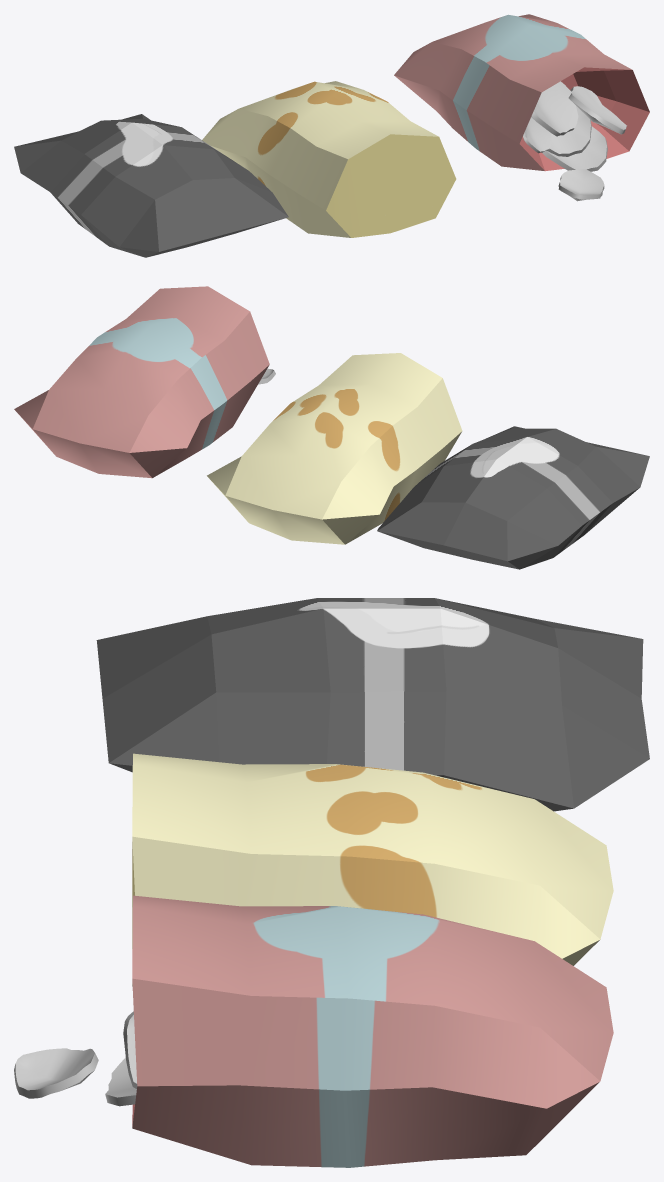
Rendered from Chip Bags.FBX.
3 views of the same model, one above another, from view 1: azimuth 30°, elevation 25°; view 2: azimuth 150°, elevation 25°; view 3: azimuth 270°, elevation 25° (orthographic). The views are drawn at different scales.
Visible parts, largest first — view 1: Box022, Box023, Box028, Plane008, Plane002, Plane006, Plane009, Plane005, Plane007; view 2: Box028, Box022, Box023; view 3: Box028, Box023, Box022, Plane009, Plane002.
Boxes of the visible parts, x1=… form: Box022: x1=202, y1=81, x2=456, y2=237; Box023: x1=14, y1=114, x2=288, y2=257; Box028: x1=394, y1=14, x2=649, y2=171; Plane008: x1=531, y1=81, x2=578, y2=136; Plane002: x1=542, y1=126, x2=607, y2=171; Plane006: x1=568, y1=86, x2=626, y2=134; Plane009: x1=558, y1=169, x2=604, y2=201; Plane005: x1=547, y1=106, x2=591, y2=156; Plane007: x1=523, y1=117, x2=551, y2=153; Box028: x1=14, y1=286, x2=269, y2=478; Box022: x1=207, y1=353, x2=462, y2=544; Box023: x1=377, y1=426, x2=649, y2=569; Box028: x1=132, y1=895, x2=613, y2=1167; Box023: x1=96, y1=598, x2=649, y2=811; Box022: x1=132, y1=753, x2=613, y2=986; Plane009: x1=14, y1=1048, x2=98, y2=1098; Plane002: x1=105, y1=1057, x2=136, y2=1106.
Bounding box in the file's own units: 392 × 89.8 × 209.
